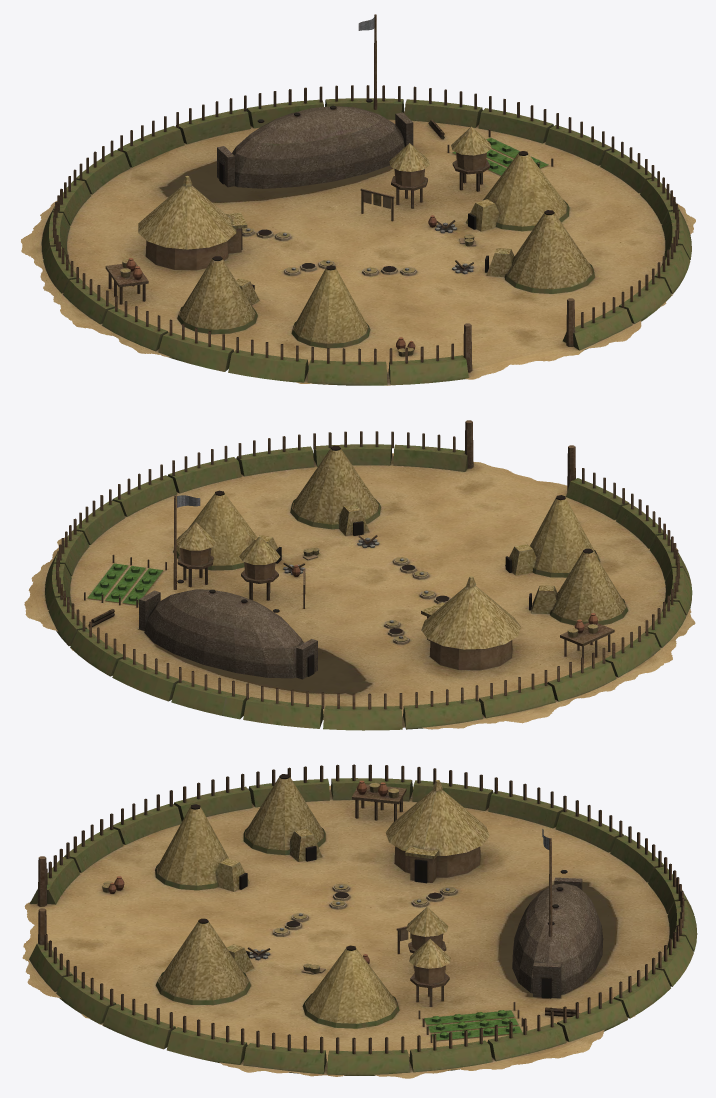
The model's file is stone-town-small-a-sinic.glb.
3 renders of one model, top to bottom at view 1: azimuth 30°, elevation 25°; view 2: azimuth 150°, elevation 25°; view 3: azimuth 270°, elevation 25°, orthographic. The views are drawn at different scales.
Visible parts, largest first — view 1: LOD0; view 2: LOD0; view 3: LOD0.
Boxes of the visible parts, x1,y1,x2,y2 form: LOD0: [21, 14, 695, 385]; LOD0: [24, 420, 695, 730]; LOD0: [22, 764, 697, 1078].
Size of what is drawn, in the model's own units: 3.98 by 0.914 by 3.83.
3 materials, 3 textured.
